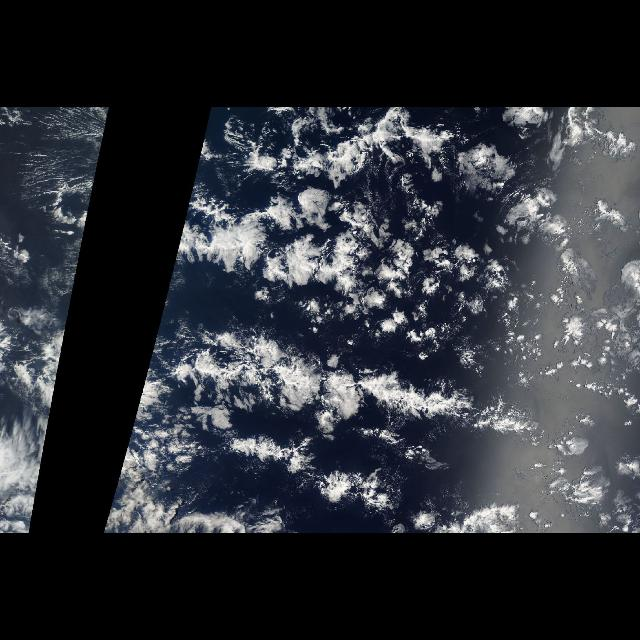Flower: (260, 116, 618, 394)
